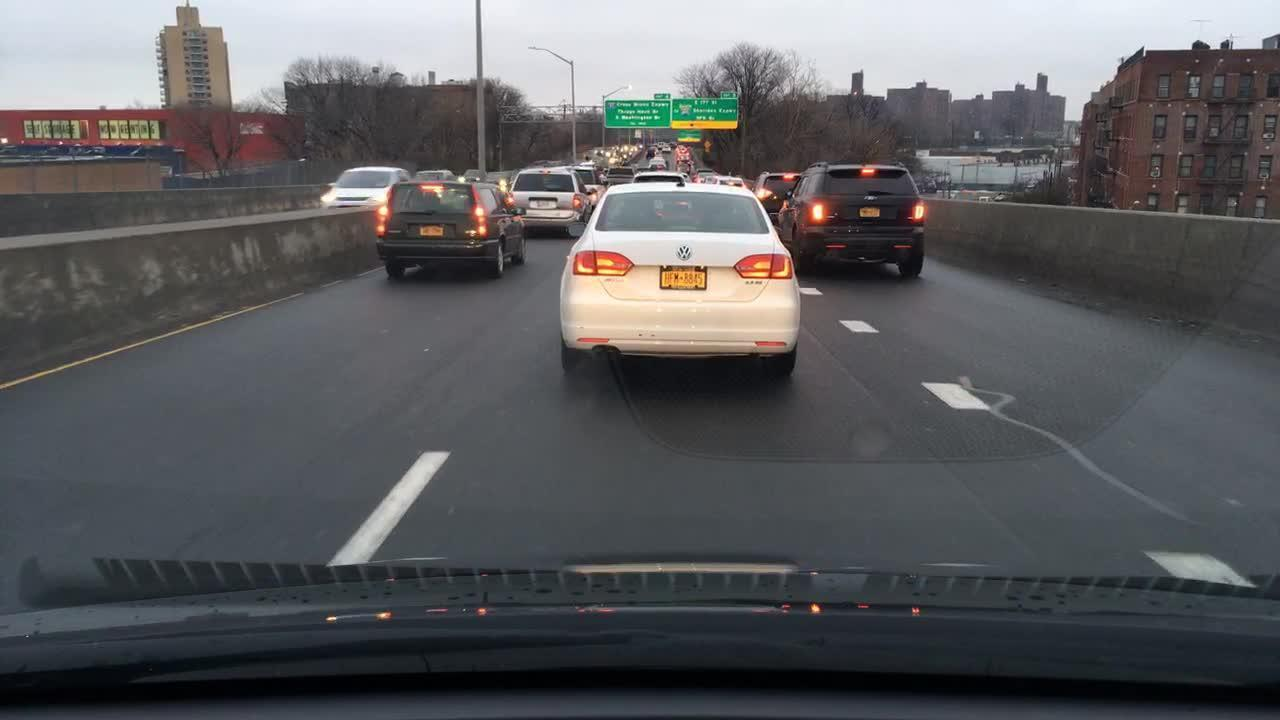Volkswagen: (669, 237, 701, 263)
